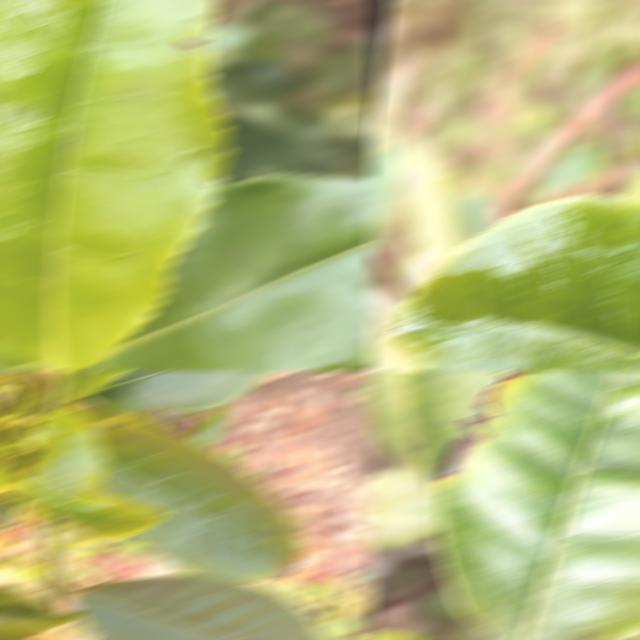Leaf: (0, 1, 230, 370), (432, 372, 640, 639), (100, 176, 374, 370), (388, 195, 640, 370), (91, 424, 304, 580), (70, 576, 324, 639), (398, 372, 507, 484), (9, 481, 168, 537), (88, 372, 276, 412), (27, 408, 109, 497), (368, 372, 420, 465), (0, 587, 81, 639), (60, 372, 131, 399), (141, 412, 197, 438)
